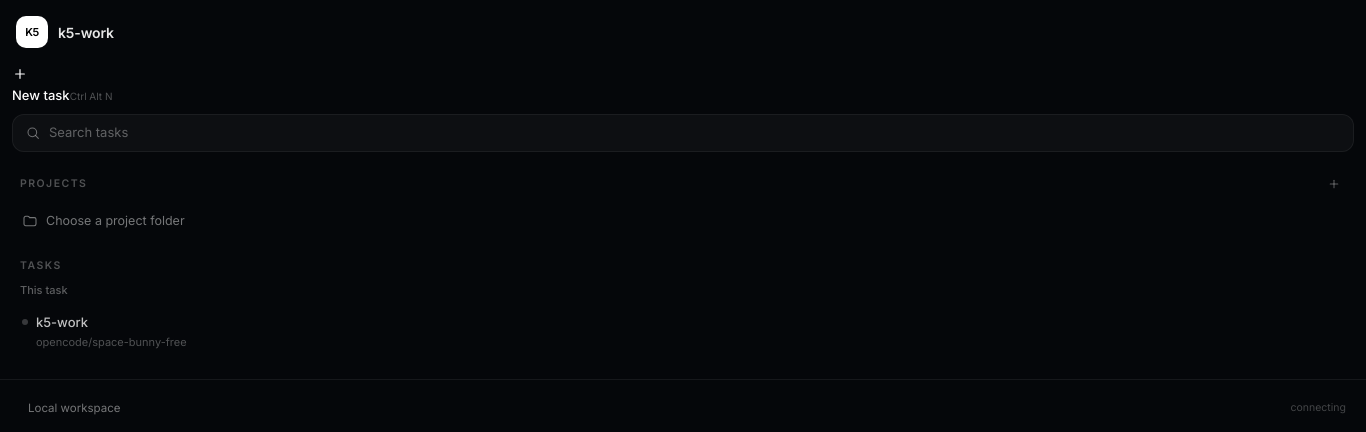
Test case: Sidebar task list › distinguishes an empty workspace from a search that matched nothing
Type "zzzz-no-such-task" into the search field with placeholder "Search tasks" at (695, 133), box [49,123,1341,142]
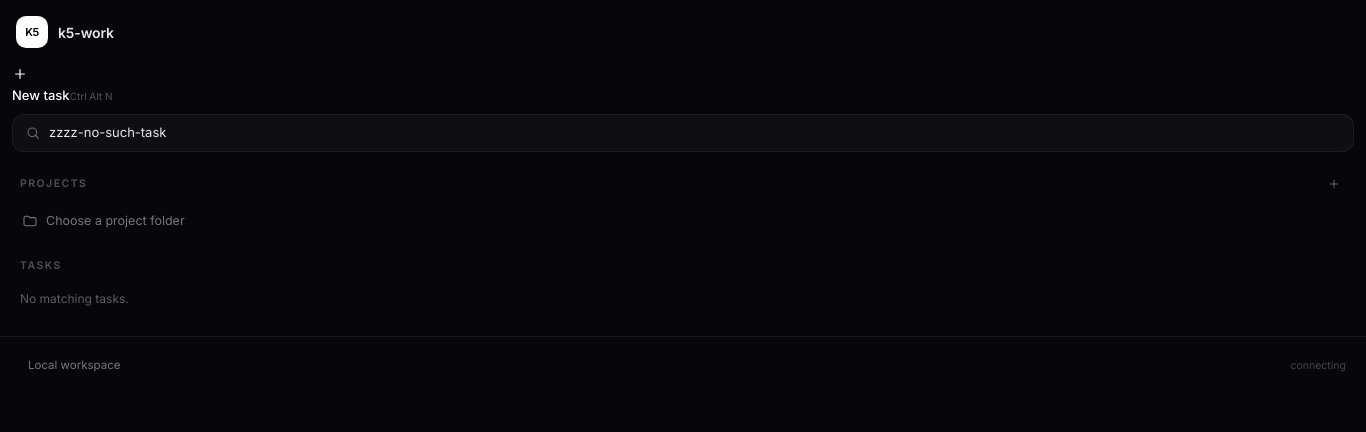
Now the text "No matching tasks." is shown, box [20,291,129,306]
